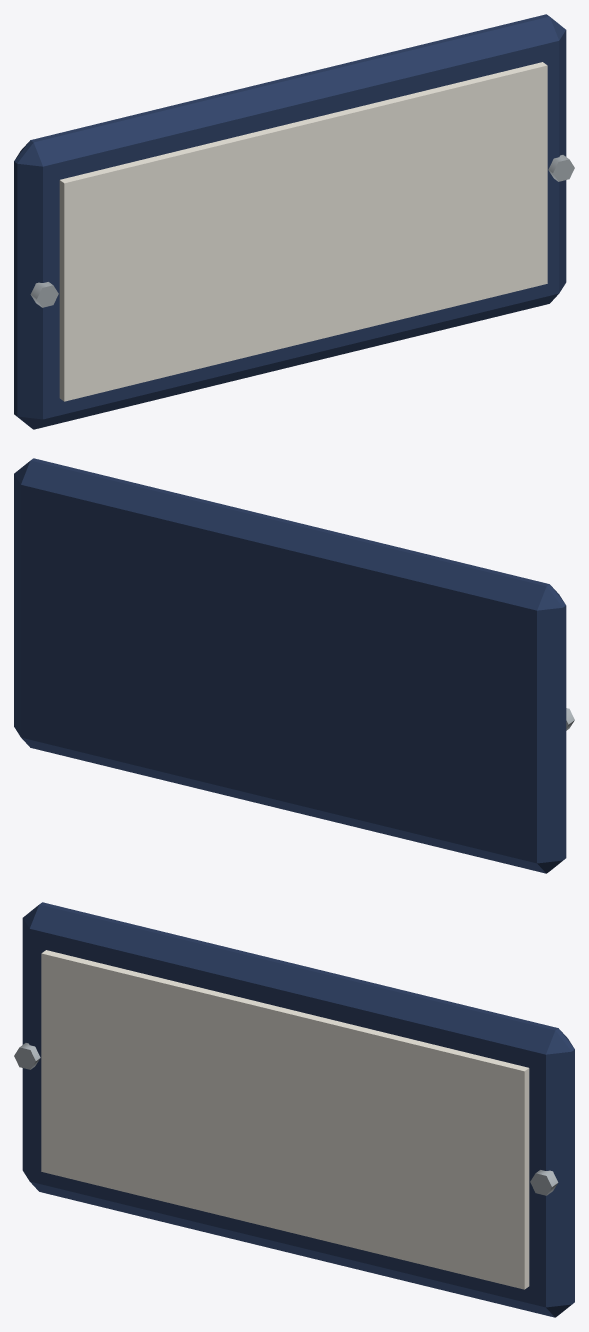
File: door_plate.glb
The picture shows the model from 3 angles, top to bottom: view 1: azimuth 30°, elevation 25°; view 2: azimuth 150°, elevation 25°; view 3: azimuth 330°, elevation 25°; orthographic projection.
Parts seen in each view (by area): view 1: door_plate; view 2: door_plate; view 3: door_plate.
Boxes of the visible parts, <box> form: door_plate: <box>14,14,574,429</box>; door_plate: <box>14,458,574,873</box>; door_plate: <box>14,902,574,1317</box>.
Bounding box in the file's own units: 0.2 × 0.1 × 0.017.
